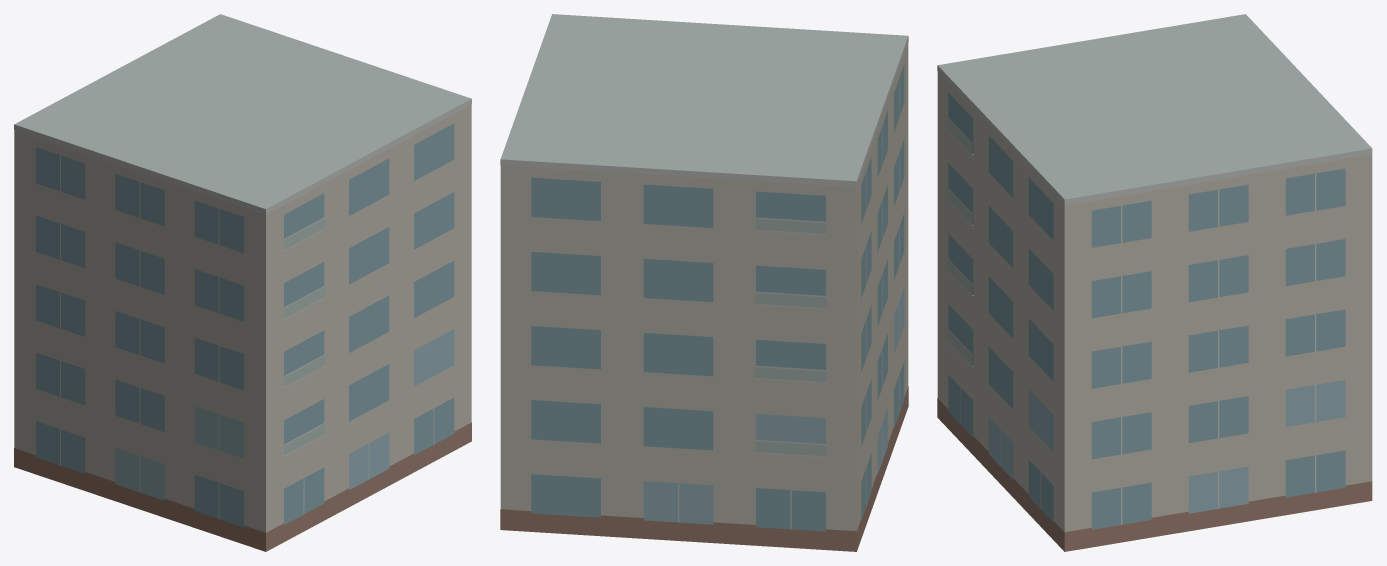
The model's file is survey-upis-32894565.glb.
The picture shows the model from 3 angles, left to right: view 1: azimuth 30°, elevation 25°; view 2: azimuth 150°, elevation 25°; view 3: azimuth 270°, elevation 25°; orthographic projection. The views are drawn at different scales.
Visible parts, largest first — view 1: survey-upis-32894565.tmp; view 2: survey-upis-32894565.tmp; view 3: survey-upis-32894565.tmp.
Boxes of the visible parts, left/top/right/bottom form: survey-upis-32894565.tmp: left=14, top=14, right=471, bottom=551; survey-upis-32894565.tmp: left=500, top=14, right=908, bottom=551; survey-upis-32894565.tmp: left=937, top=14, right=1372, bottom=551.
Bounding box in the file's own units: 17 × 15.05 × 16.84.
